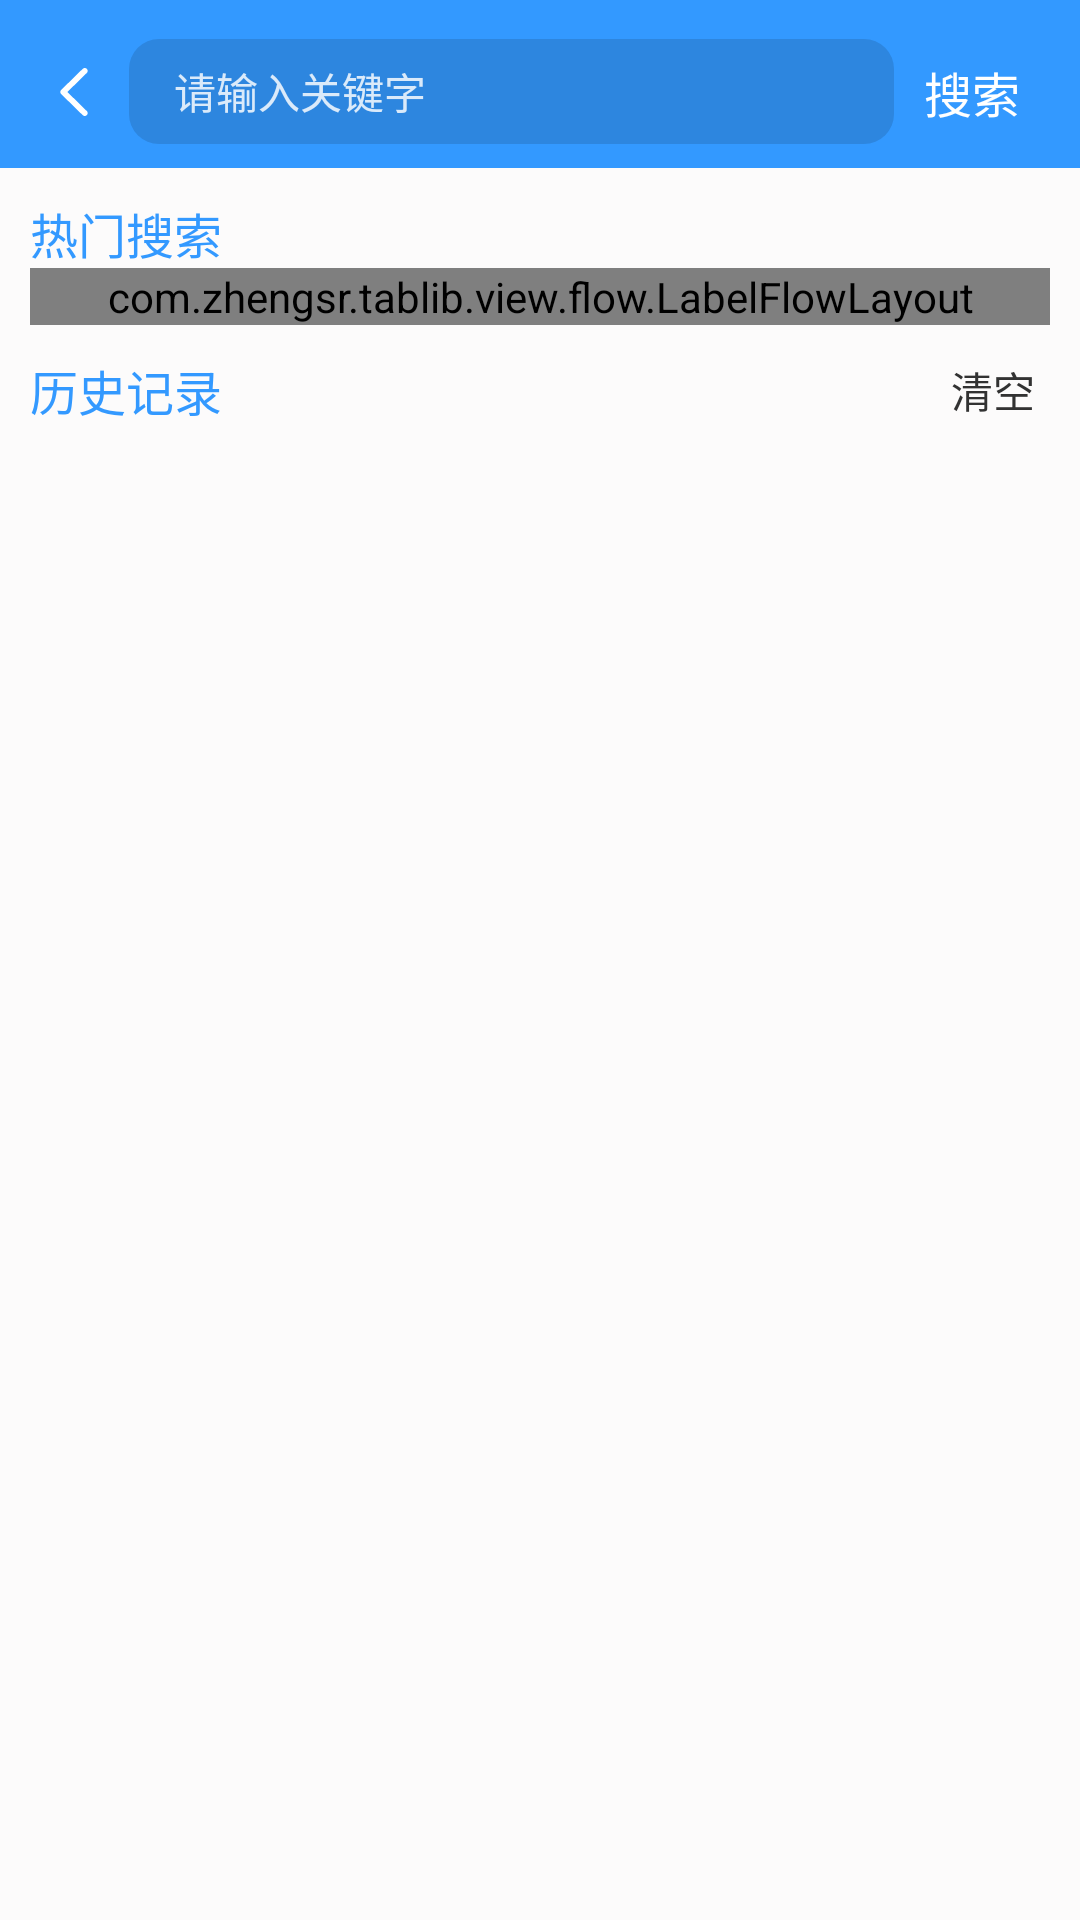

Icon bounding boxes for this 1080w x 1920h phone screenshot, format box=[x1, y1, x2, y2]:
back: box=[60, 68, 88, 116]
